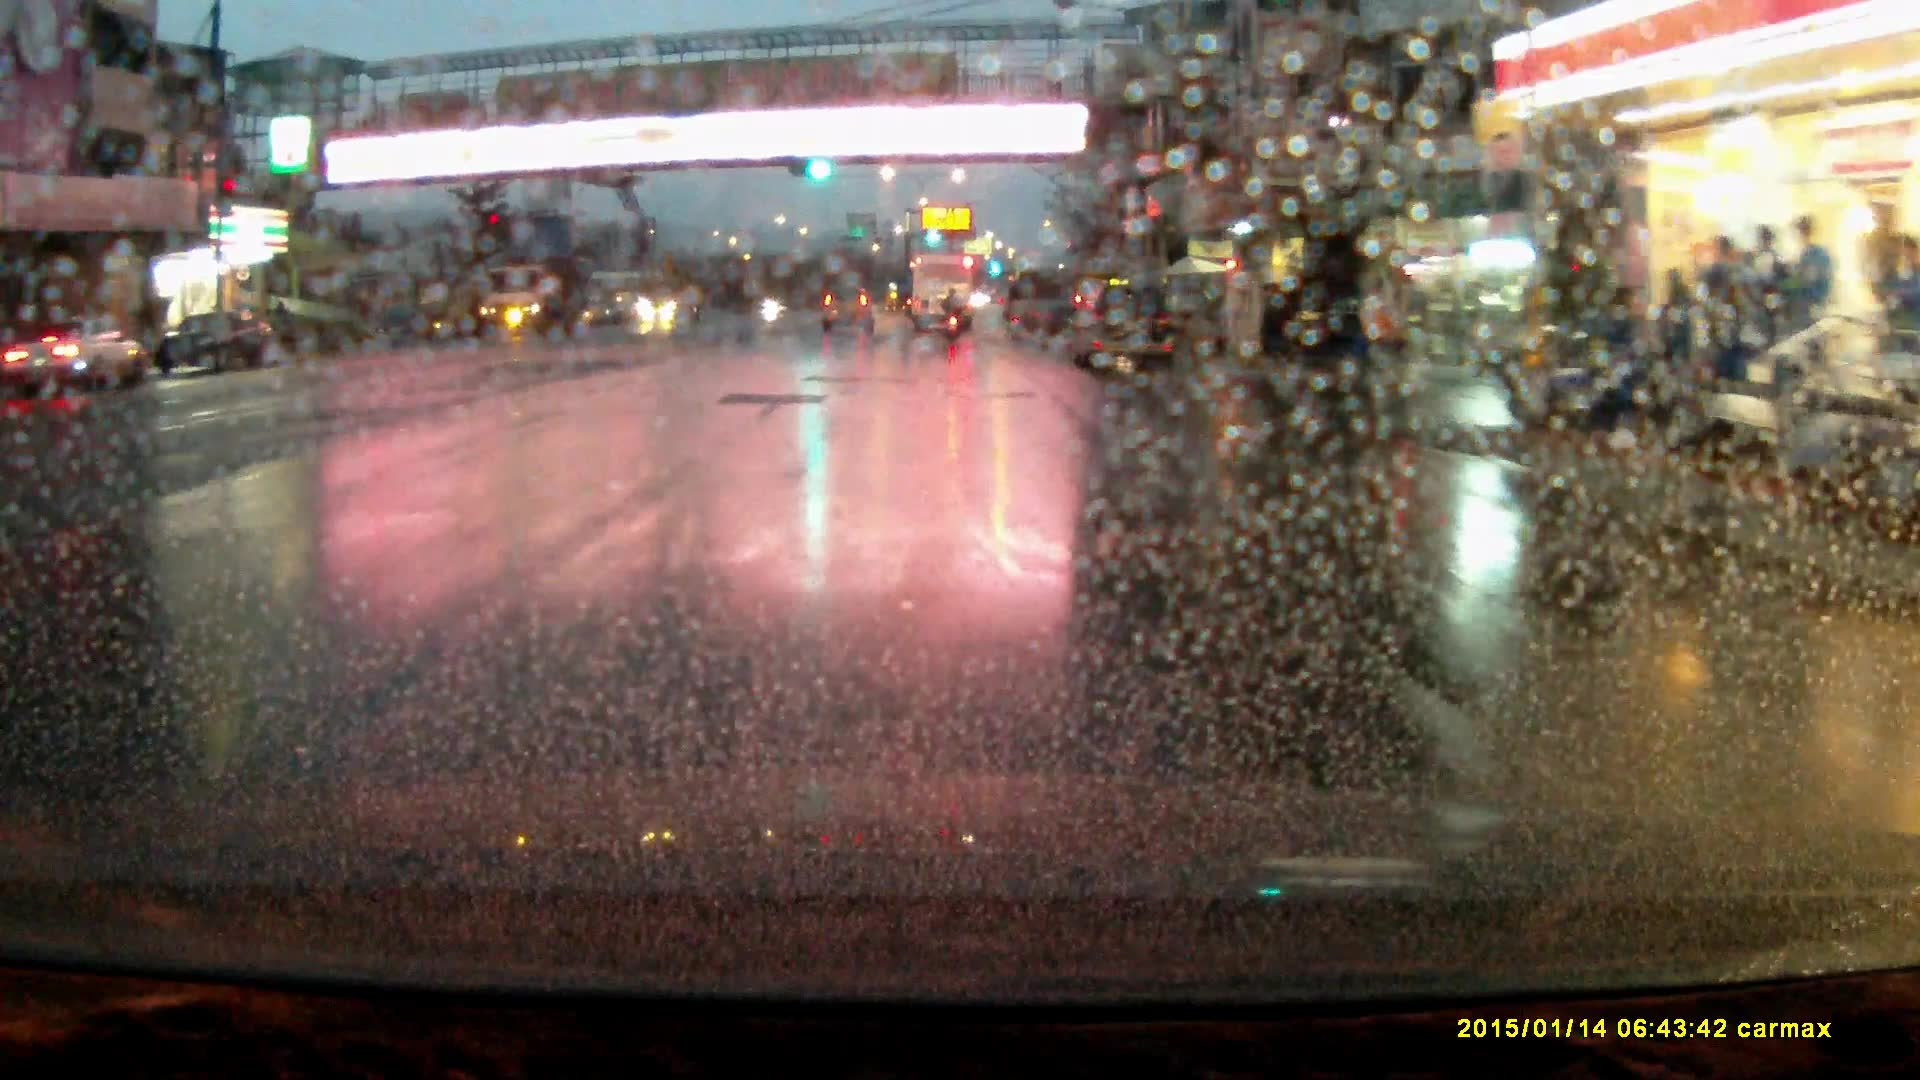rider: (941, 283, 965, 341)
vehicle: (1070, 286, 1173, 380), (147, 312, 284, 381), (14, 319, 136, 395), (476, 263, 585, 340), (1264, 282, 1355, 360), (912, 256, 976, 335), (637, 279, 705, 327), (822, 289, 876, 337)
